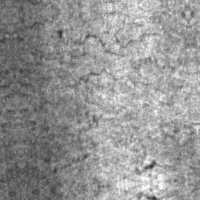crazing: (20, 7, 171, 64), (19, 93, 101, 177), (14, 48, 133, 99)
